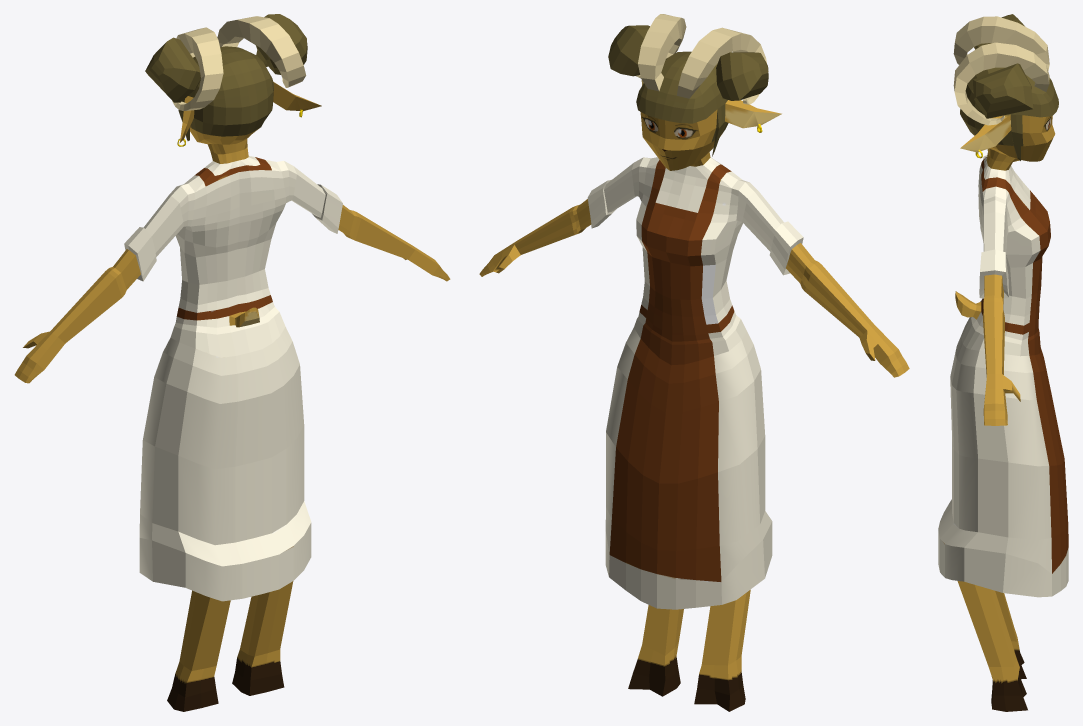
File: Zoe.fbx
3 views of the same model, side by side, from view 1: azimuth 30°, elevation 25°; view 2: azimuth 150°, elevation 25°; view 3: azimuth 270°, elevation 25° (orthographic). The views are drawn at different scales.
Parts seen in each view (by area): view 1: Cube.001; view 2: Cube.001; view 3: Cube.001.
Part boxes in pixels (box(x1,y1,x2,y2)): Cube.001: box(14, 14, 450, 711); Cube.001: box(479, 14, 909, 711); Cube.001: box(938, 14, 1068, 711).
Bounding box in the file's own units: 303 × 456 × 82.7.
Materials: 1 (1 with a texture image).
